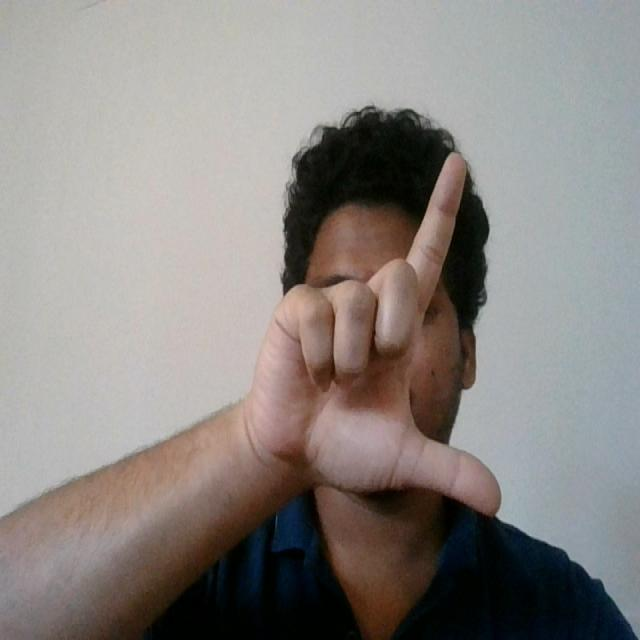IloveYou: (236, 138, 506, 520)
